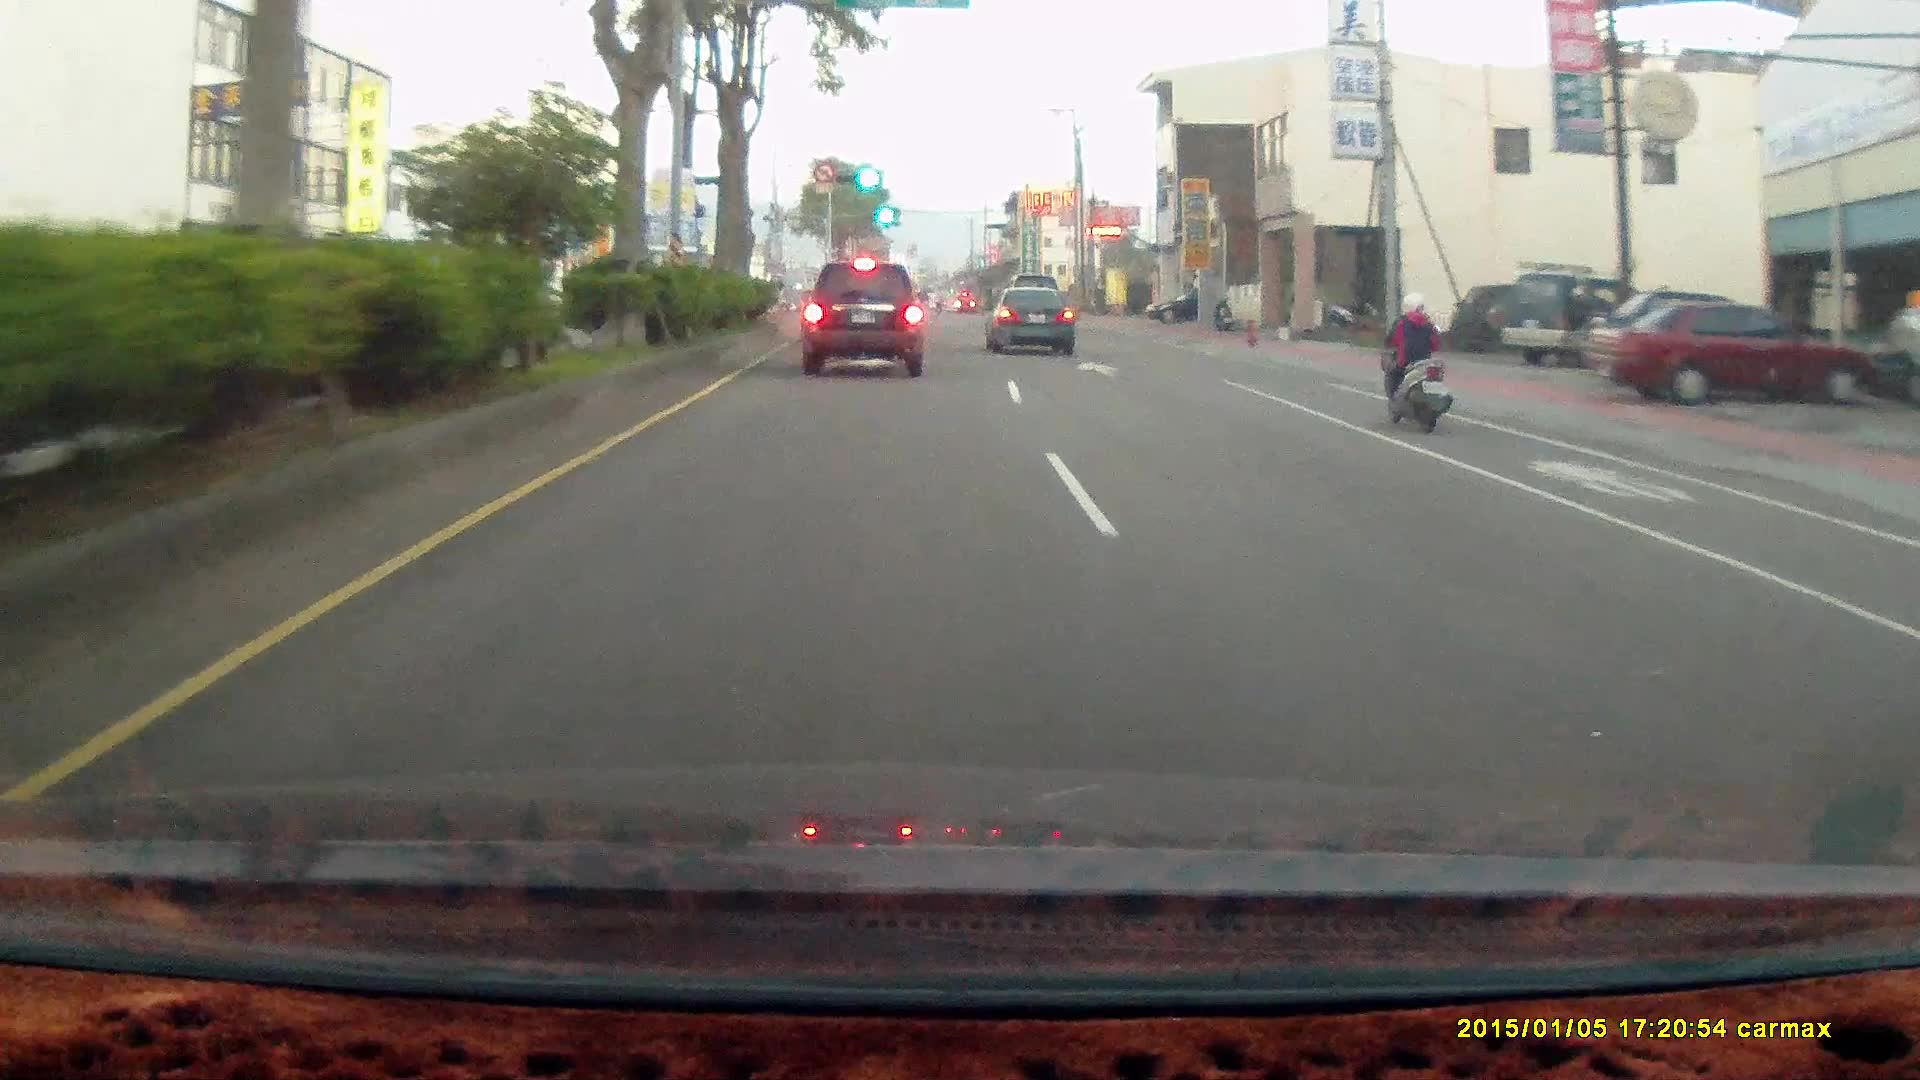rider: (1364, 279, 1467, 444), (1375, 287, 1451, 429)
vehicle: (1594, 297, 1875, 412), (1585, 298, 1877, 406), (1498, 273, 1658, 368), (802, 259, 927, 375), (805, 260, 929, 376), (1500, 271, 1636, 364), (984, 286, 1078, 356), (1446, 282, 1541, 349), (984, 285, 1074, 354), (1860, 309, 1919, 407), (1143, 287, 1229, 322), (1142, 287, 1199, 326)
